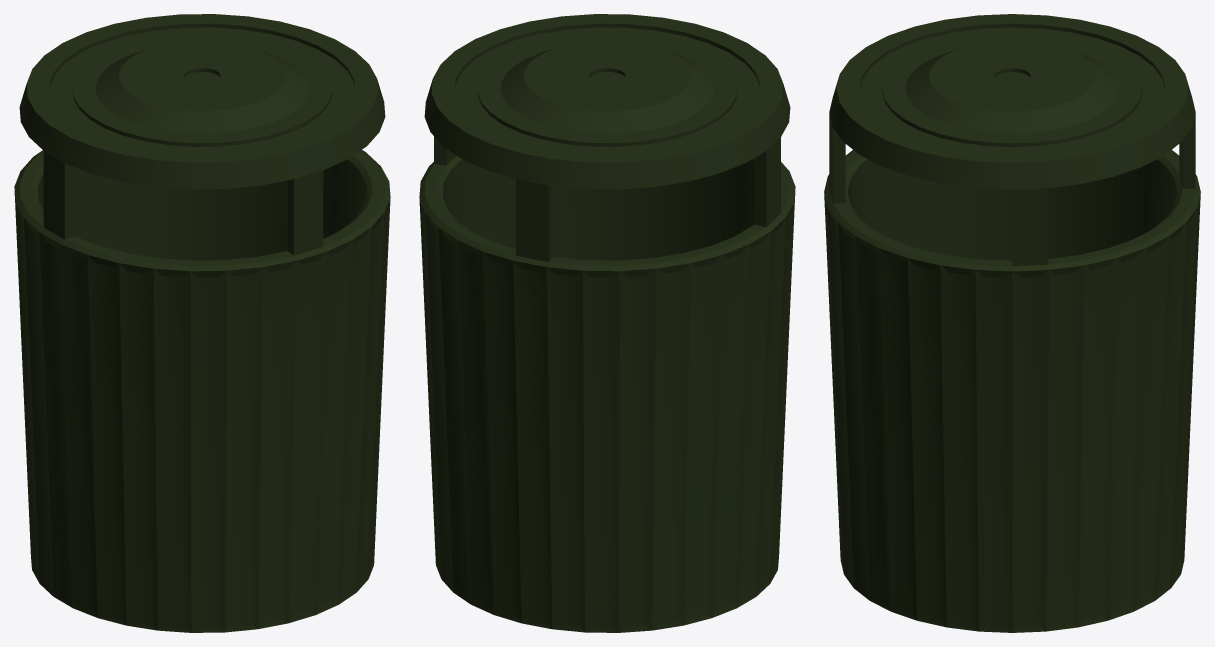
File: kosz.fbx
3 renders of one model, left to right at view 1: azimuth 30°, elevation 25°; view 2: azimuth 150°, elevation 25°; view 3: azimuth 270°, elevation 25°, orthographic.
Parts seen in each view (by area): view 1: Cylinder; view 2: Cylinder; view 3: Cylinder.
Part boxes in pixels (box(x1,y1,x2,y2)): Cylinder: box(14, 14, 390, 632); Cylinder: box(419, 14, 795, 632); Cylinder: box(824, 14, 1200, 632).
Bounding box in the file's own units: 219 × 311 × 219.
